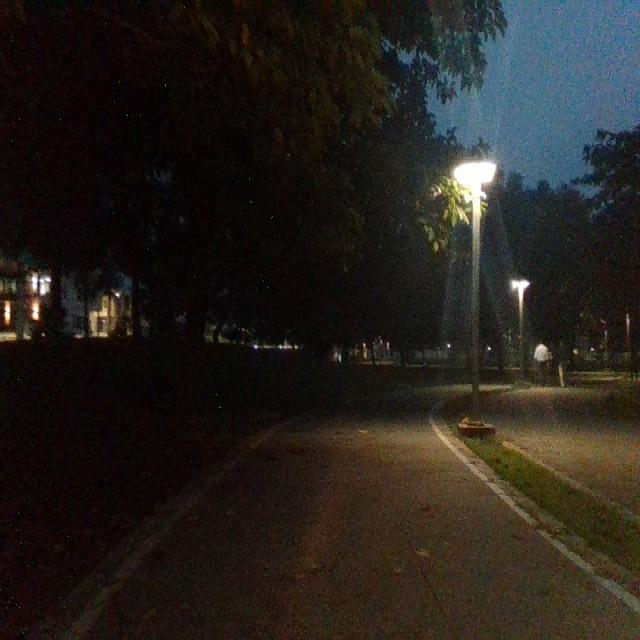lane: (87, 418, 639, 634)
